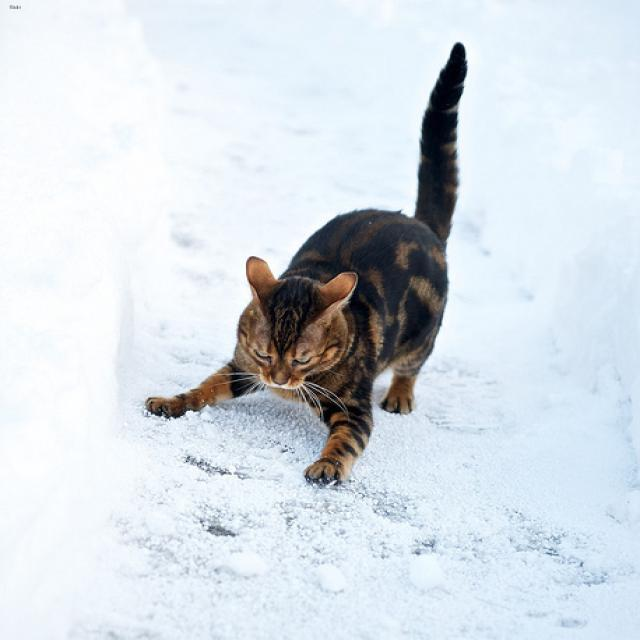Bengal: (220, 242, 379, 403)
